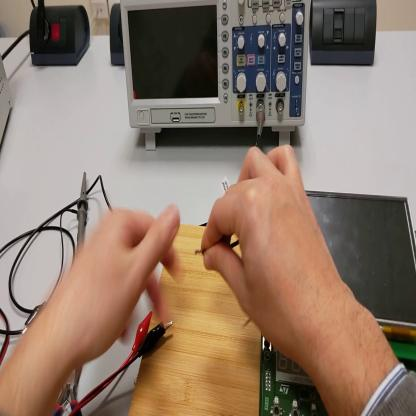hand: (201, 142, 343, 366), (61, 204, 181, 371)
low voltage board: (194, 190, 416, 416)
oscilloscope: (122, 3, 311, 154)
oscilloscope probe tip: (75, 169, 90, 249)
power supply: (2, 55, 14, 155)
socket: (30, 5, 91, 68), (109, 4, 126, 67)
working area: (129, 226, 264, 415)
